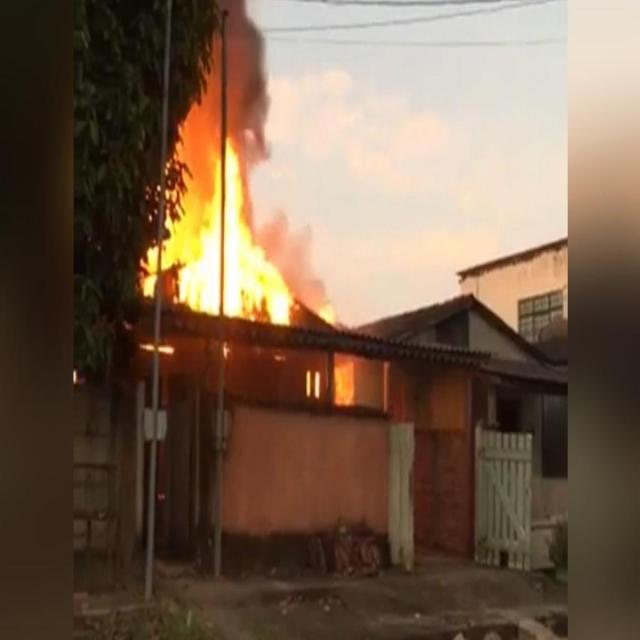Fire: (149, 126, 292, 330)
